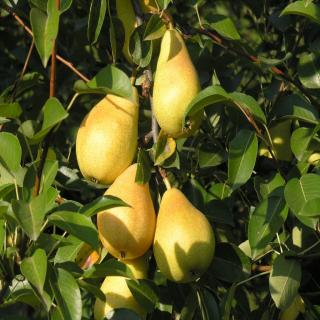Pear: (75, 84, 138, 188), (152, 27, 204, 141), (96, 163, 156, 261), (152, 191, 215, 283), (94, 252, 150, 320)
